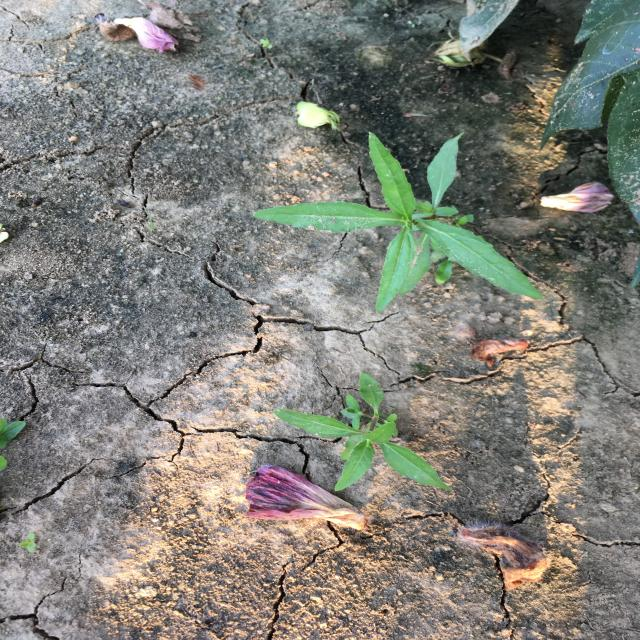Eclipta: (250, 130, 546, 316), (271, 369, 455, 494)
